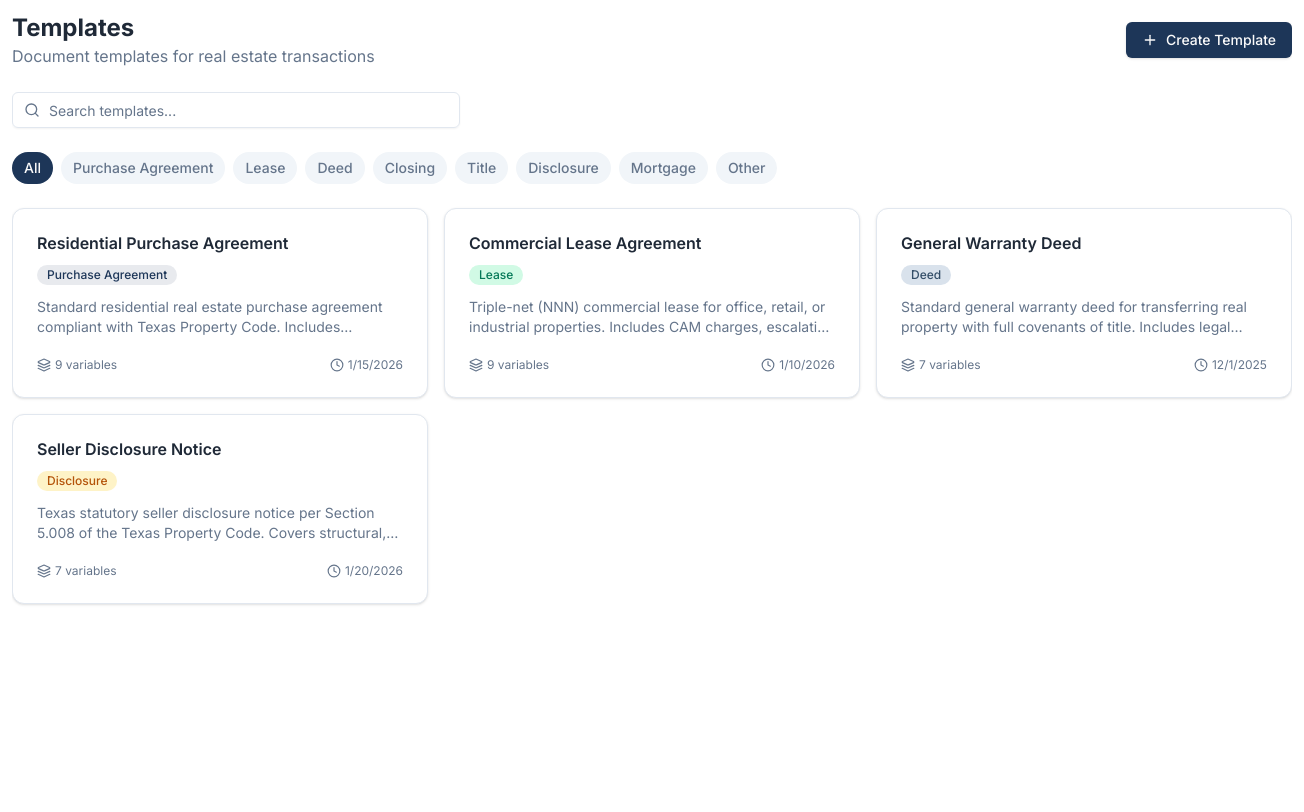
TemplatesPage › should filter templates by category pill
Check: the heading "Residential Purchase Agreement" is shown, box [37,233,288,253]
Click the button "Lease".
click(265, 168)  # box [233,152,297,184]
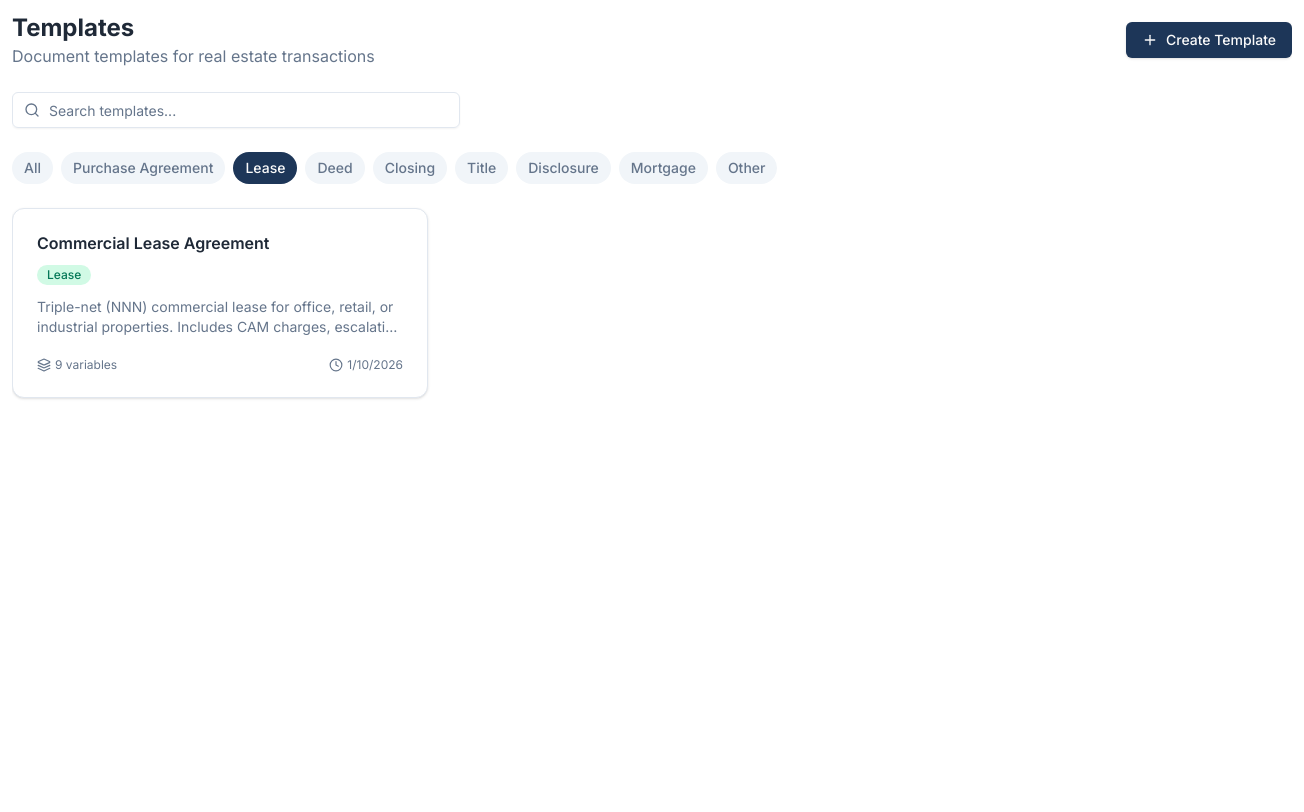
Check: the heading "Commercial Lease Agreement" is shown, box [37,233,270,253]
Check: the link "Residential Purchase Agreement" is gone
Check: the link "General Warranty Deed" is gone
